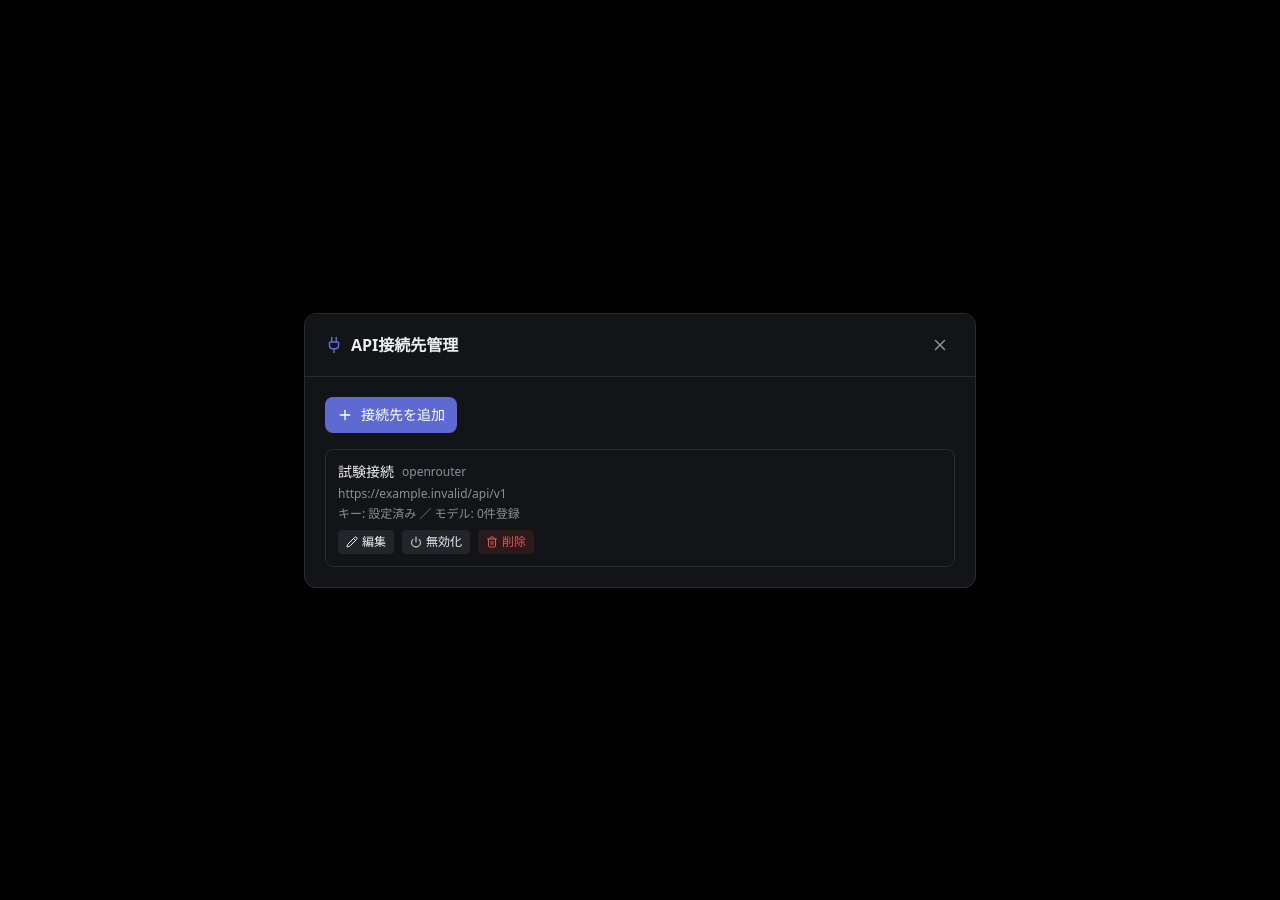
Test: API接続先管理UI › モデル登録エラーをフォーム最上部ではなく使用モデル選択欄の中へ表示する
The width and height of the screenshot is (1280, 900).
Expected: the text "試験接続" is shown, x1=338 y1=462 x2=394 y2=482
Click the button "編集": point(366, 542) x1=338 y1=530 x2=394 y2=554
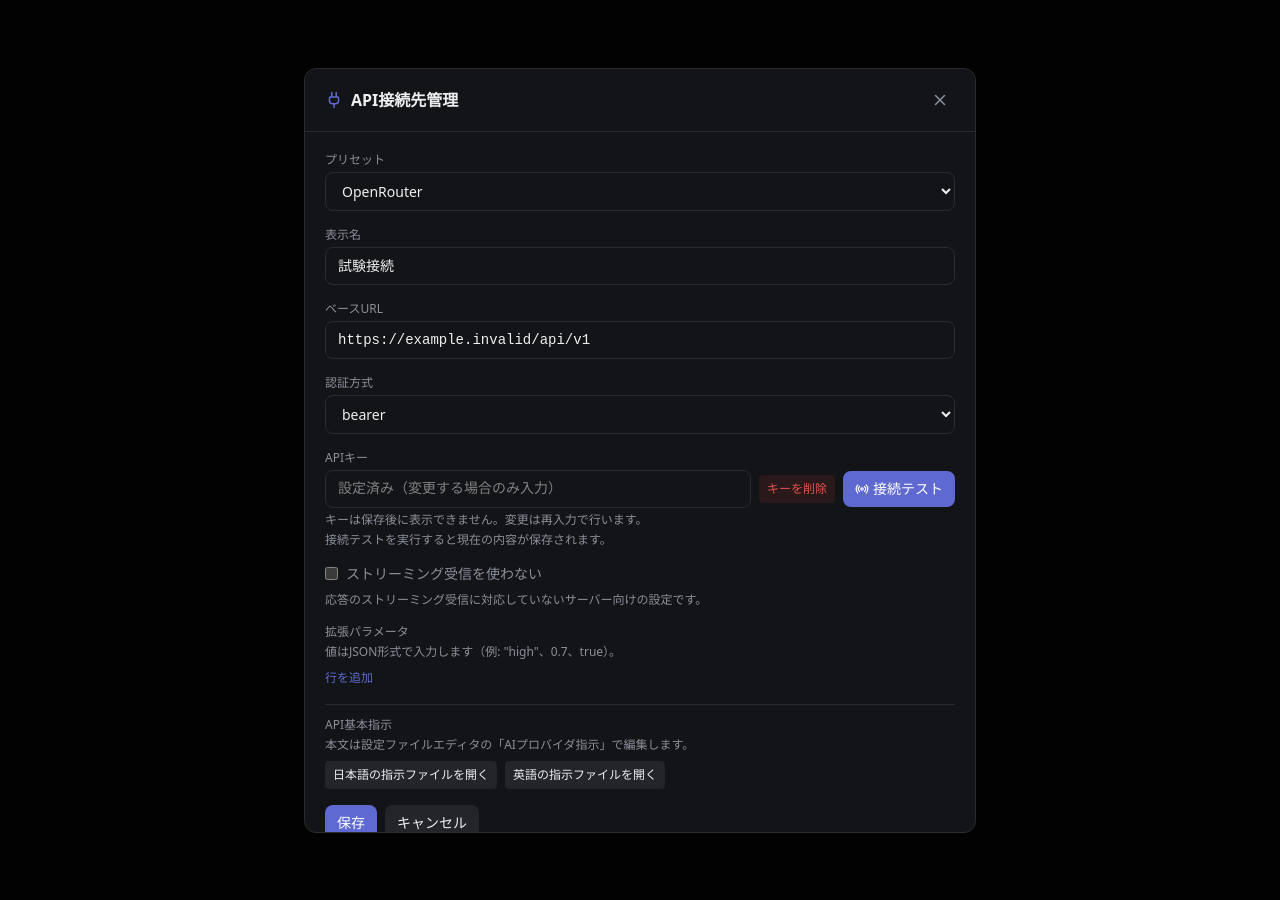
Expected: the field showing "試験接続" below "表示名" is shown, x1=325 y1=246 x2=955 y2=284
Click the button "接続テスト": point(899, 488) x1=843 y1=470 x2=955 y2=506
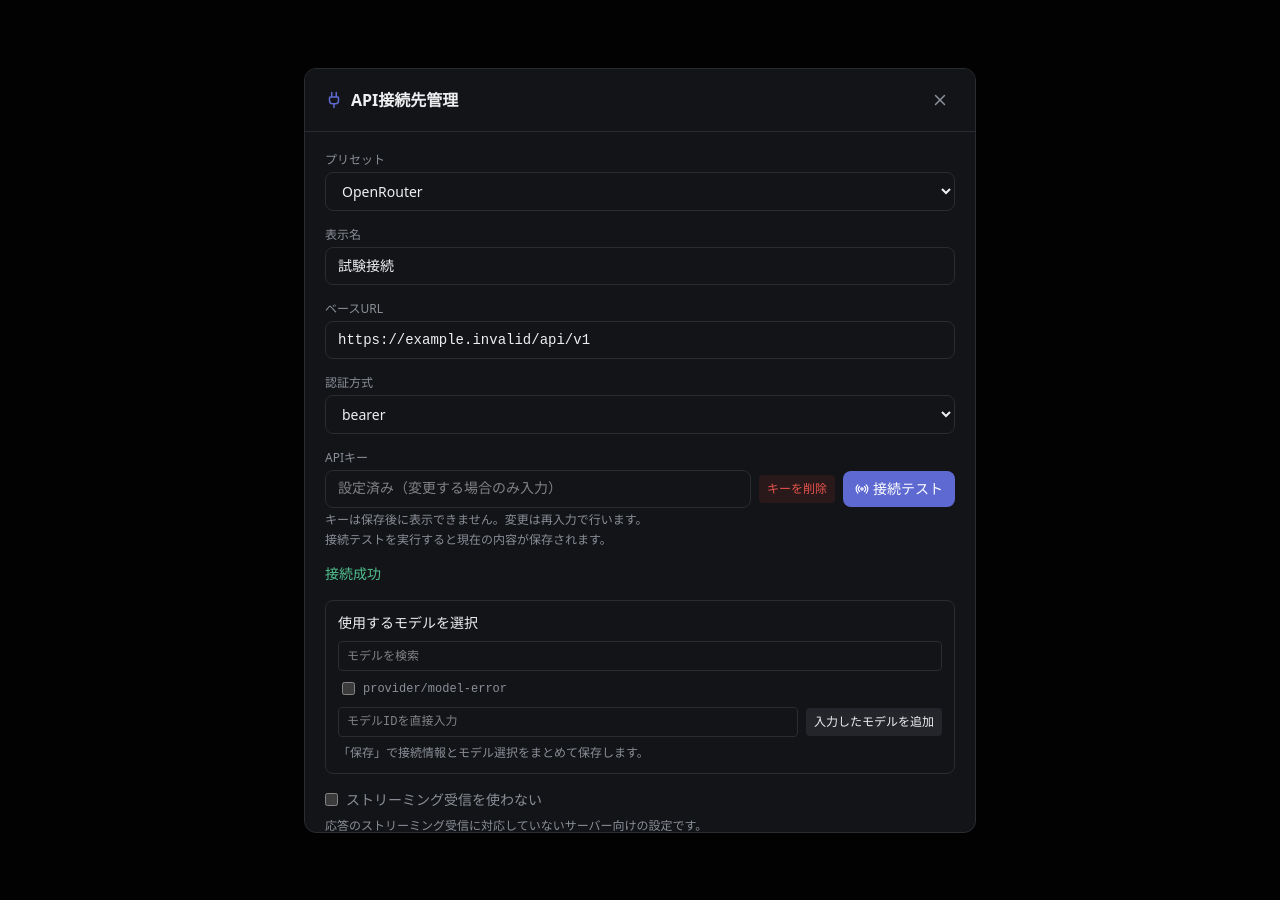
Click the checkbox labelled "provider/model-error": point(348, 688) x1=342 y1=682 x2=355 y2=695
(page scrolled)
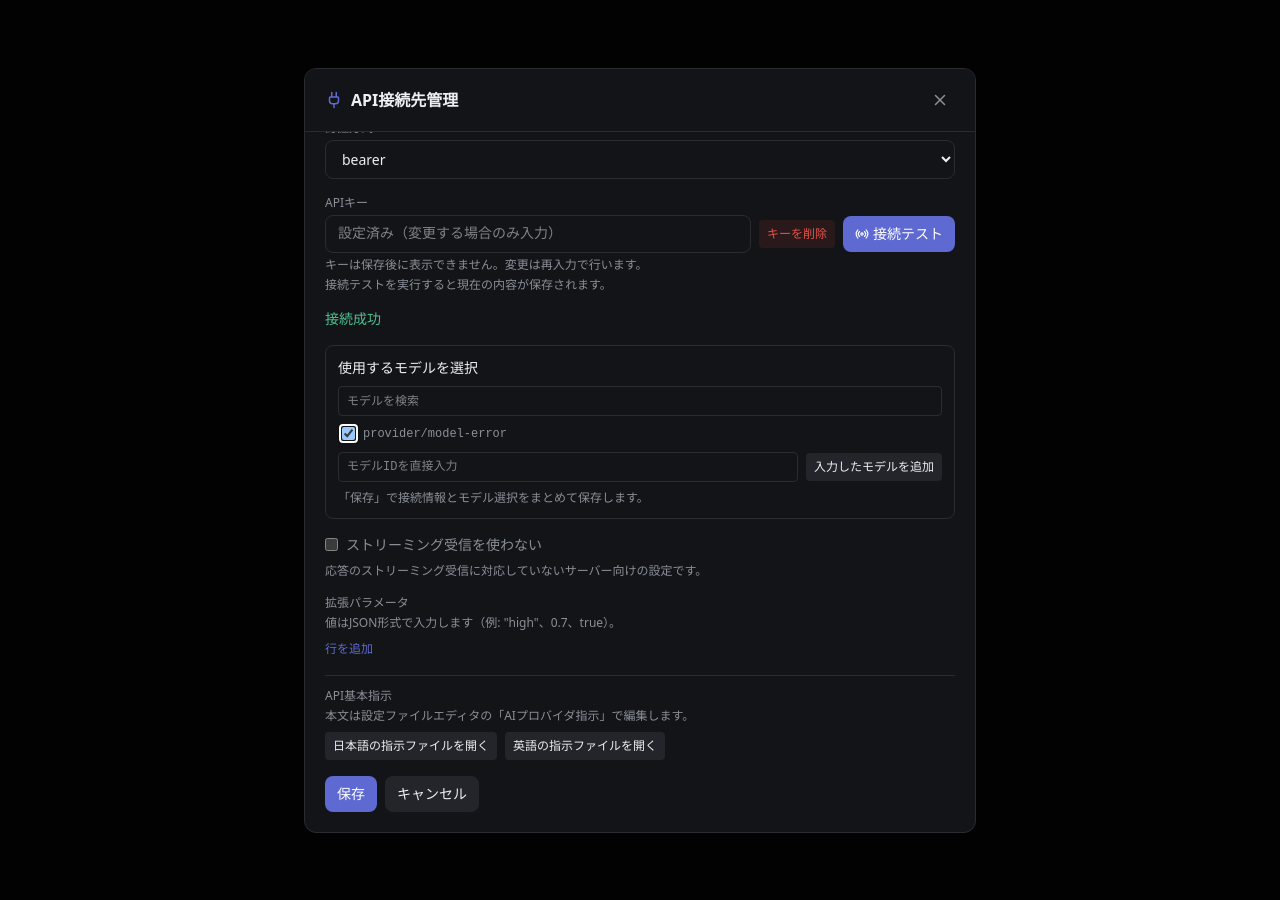
Click the button "保存": point(351, 794) x1=325 y1=776 x2=377 y2=812
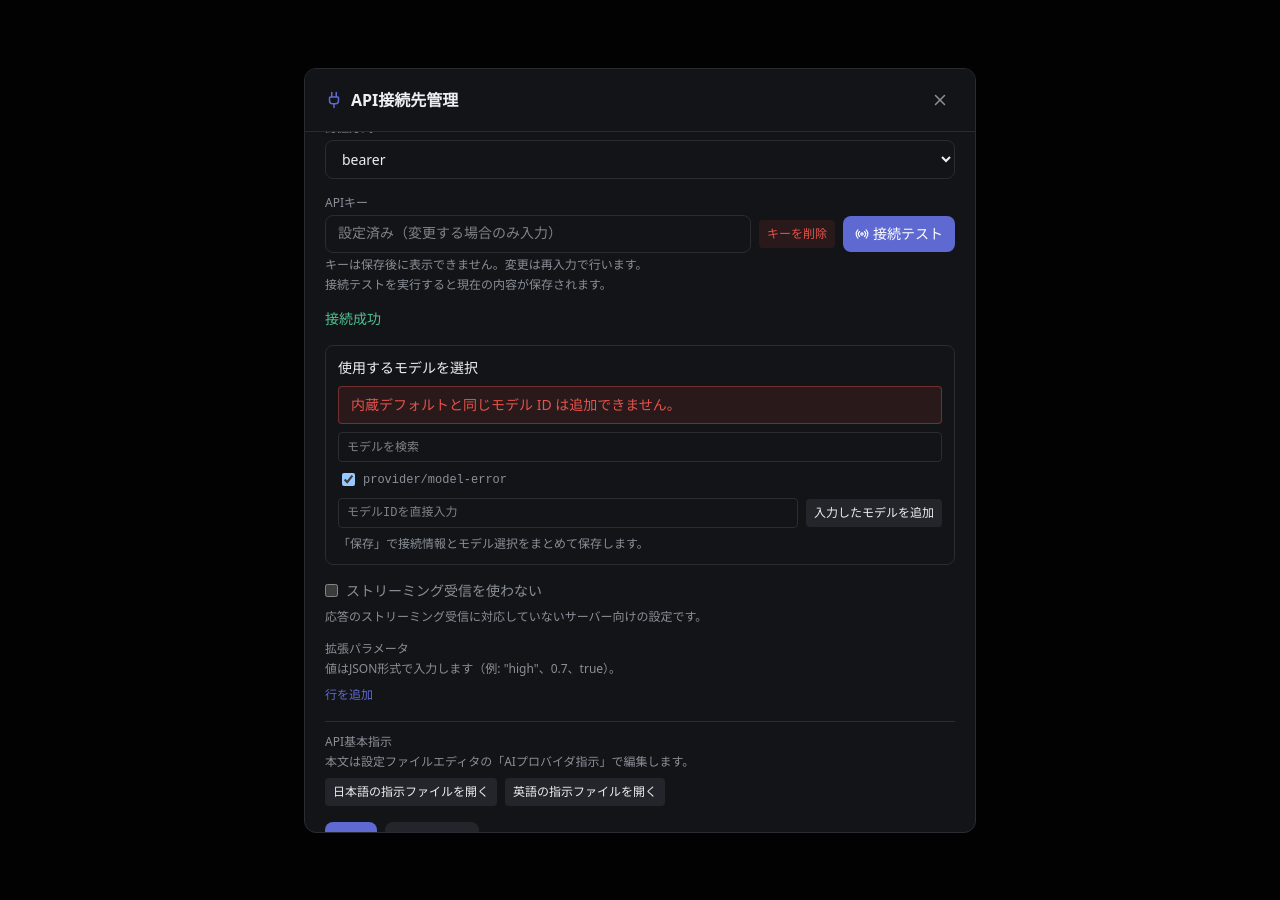
Expected: the message reads "内蔵デフォルトと同じモデル ID は追加できません。", x1=351 y1=394 x2=681 y2=414
